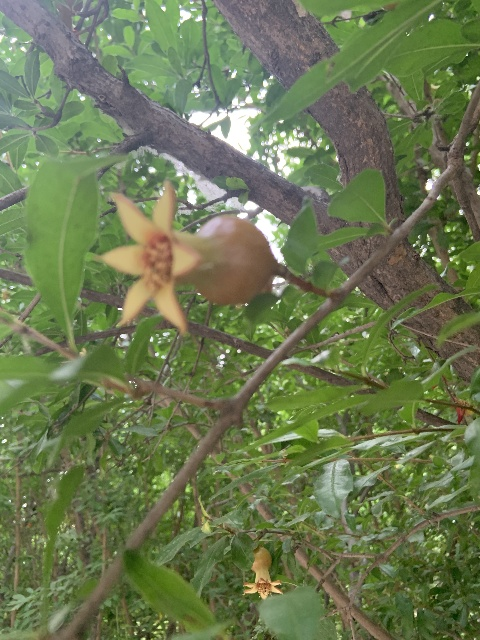early-fruit: (93, 179, 279, 336), (242, 544, 283, 598), (0, 289, 12, 302)
